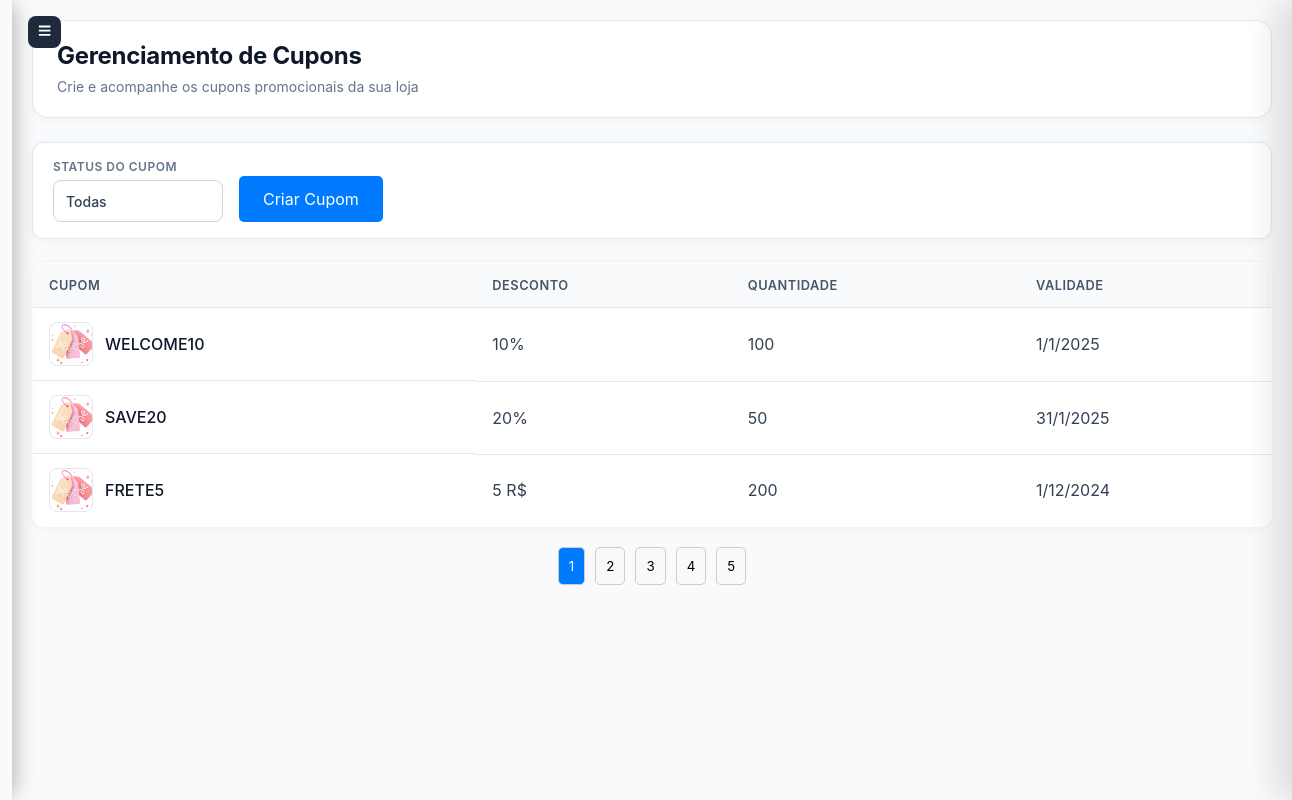
Test: coupons filters › should update the URL params when all filters change
Click the button named "Ir para página 2" at (610, 566), box top-left (595, 547), bottom-right (625, 585)
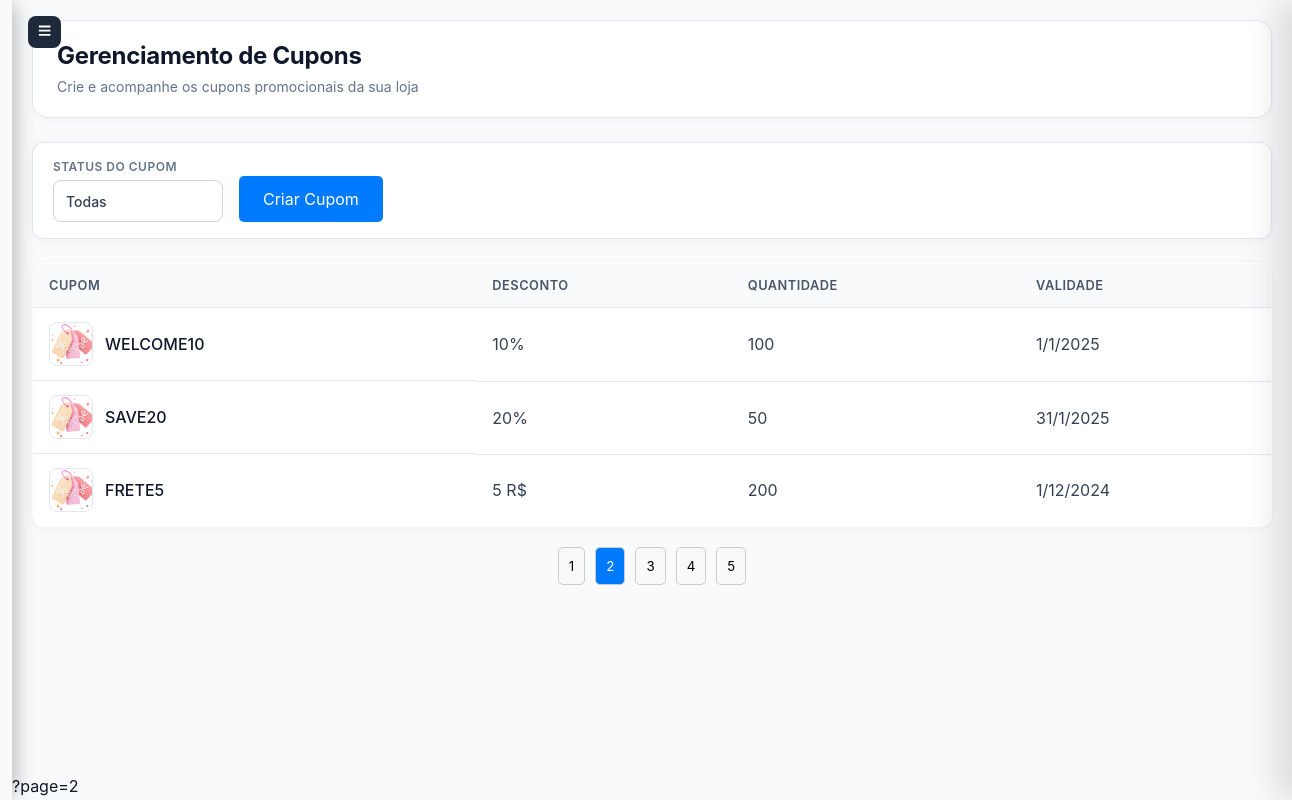
Select "cupons ativos" in the dropdown named "filtrar por status" at (138, 201), box top-left (53, 180), bottom-right (223, 222)
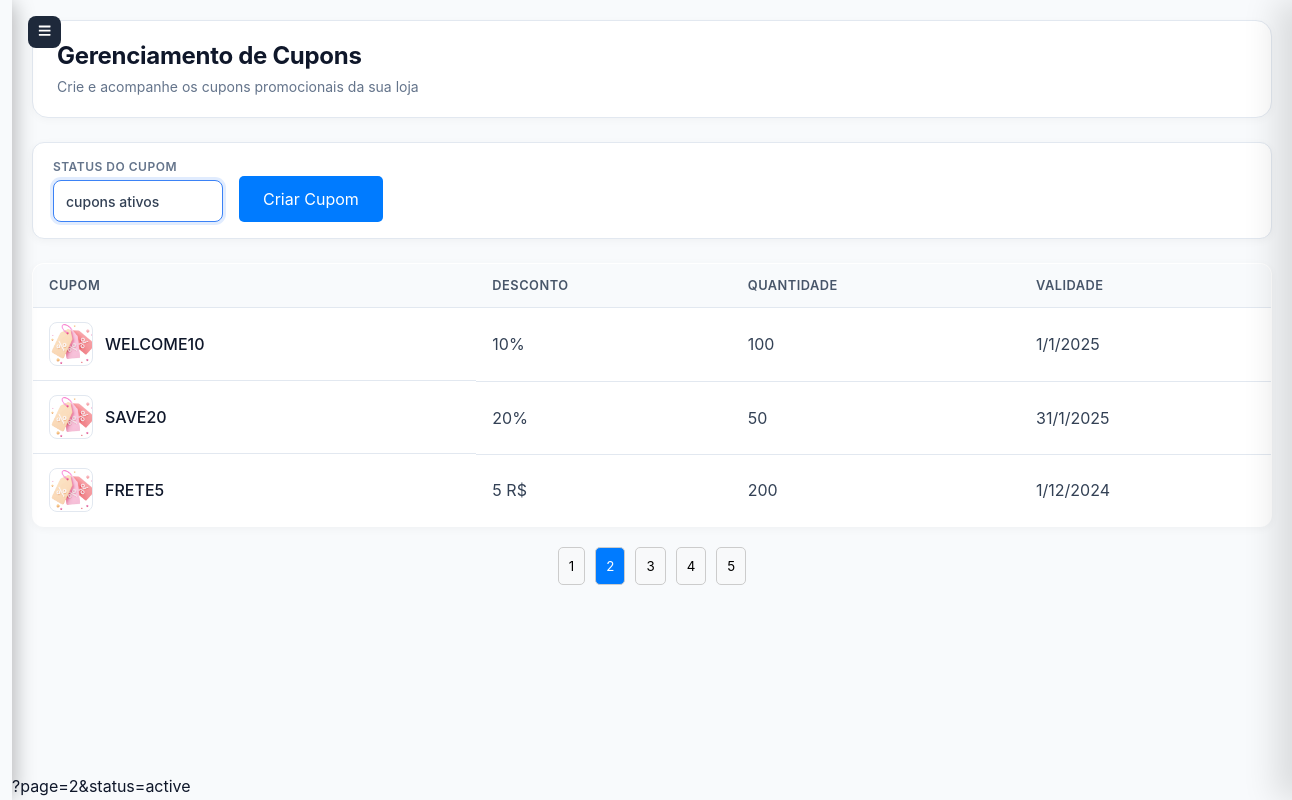
Now the text with test id "location" reads "?page=2&status=active", box top-left (12, 776), bottom-right (191, 796)
